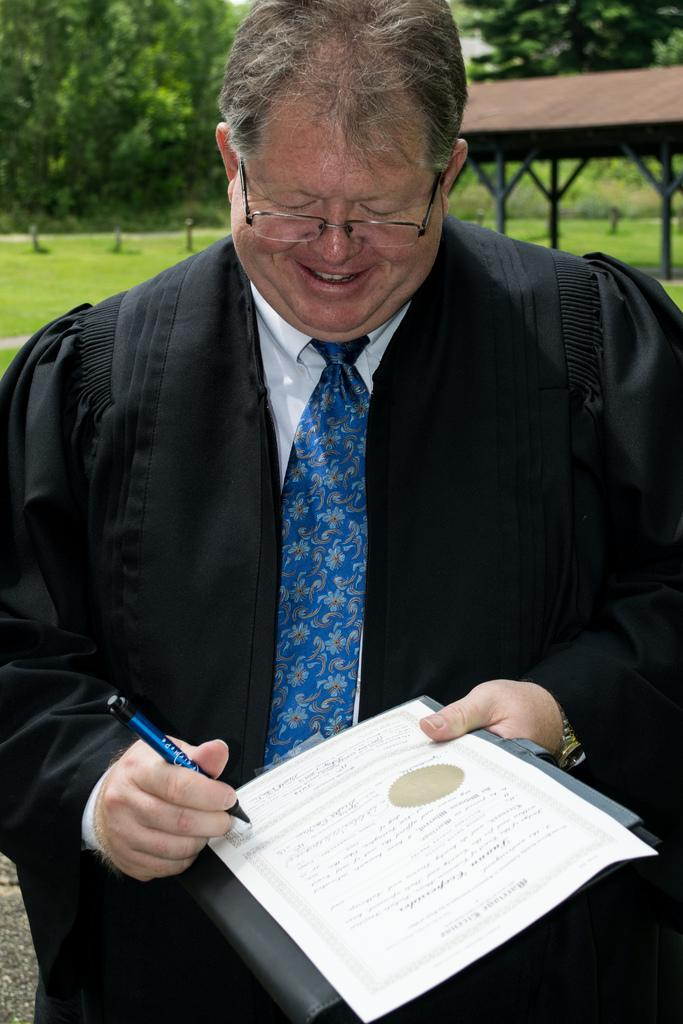Luggage-and-bags: (3, 231, 679, 1019)
